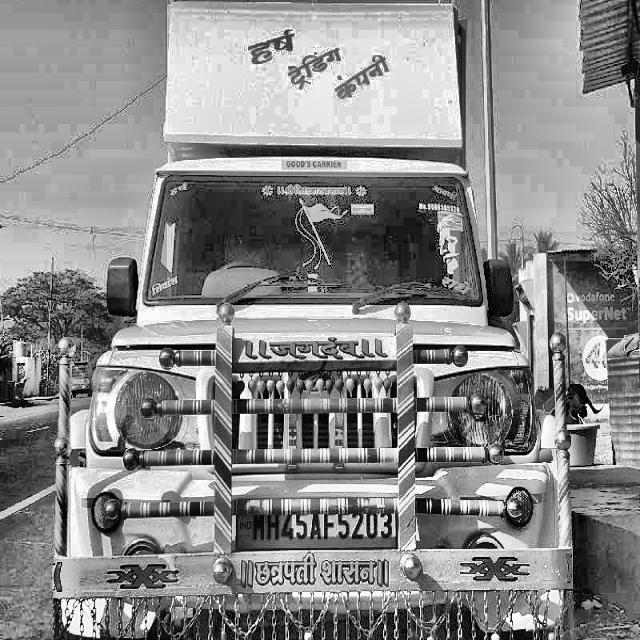light_vehicle: (46, 0, 578, 640)
